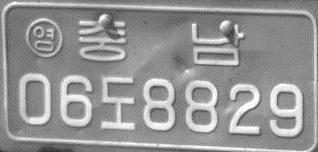0: (17, 72, 52, 125)
2: (227, 82, 262, 135)
6: (58, 73, 93, 128)
8: (184, 79, 219, 134), (141, 77, 176, 131)
9: (268, 82, 304, 139)
도: (100, 75, 136, 130)
영: (24, 17, 63, 57)
충남_D: (77, 16, 244, 66)
